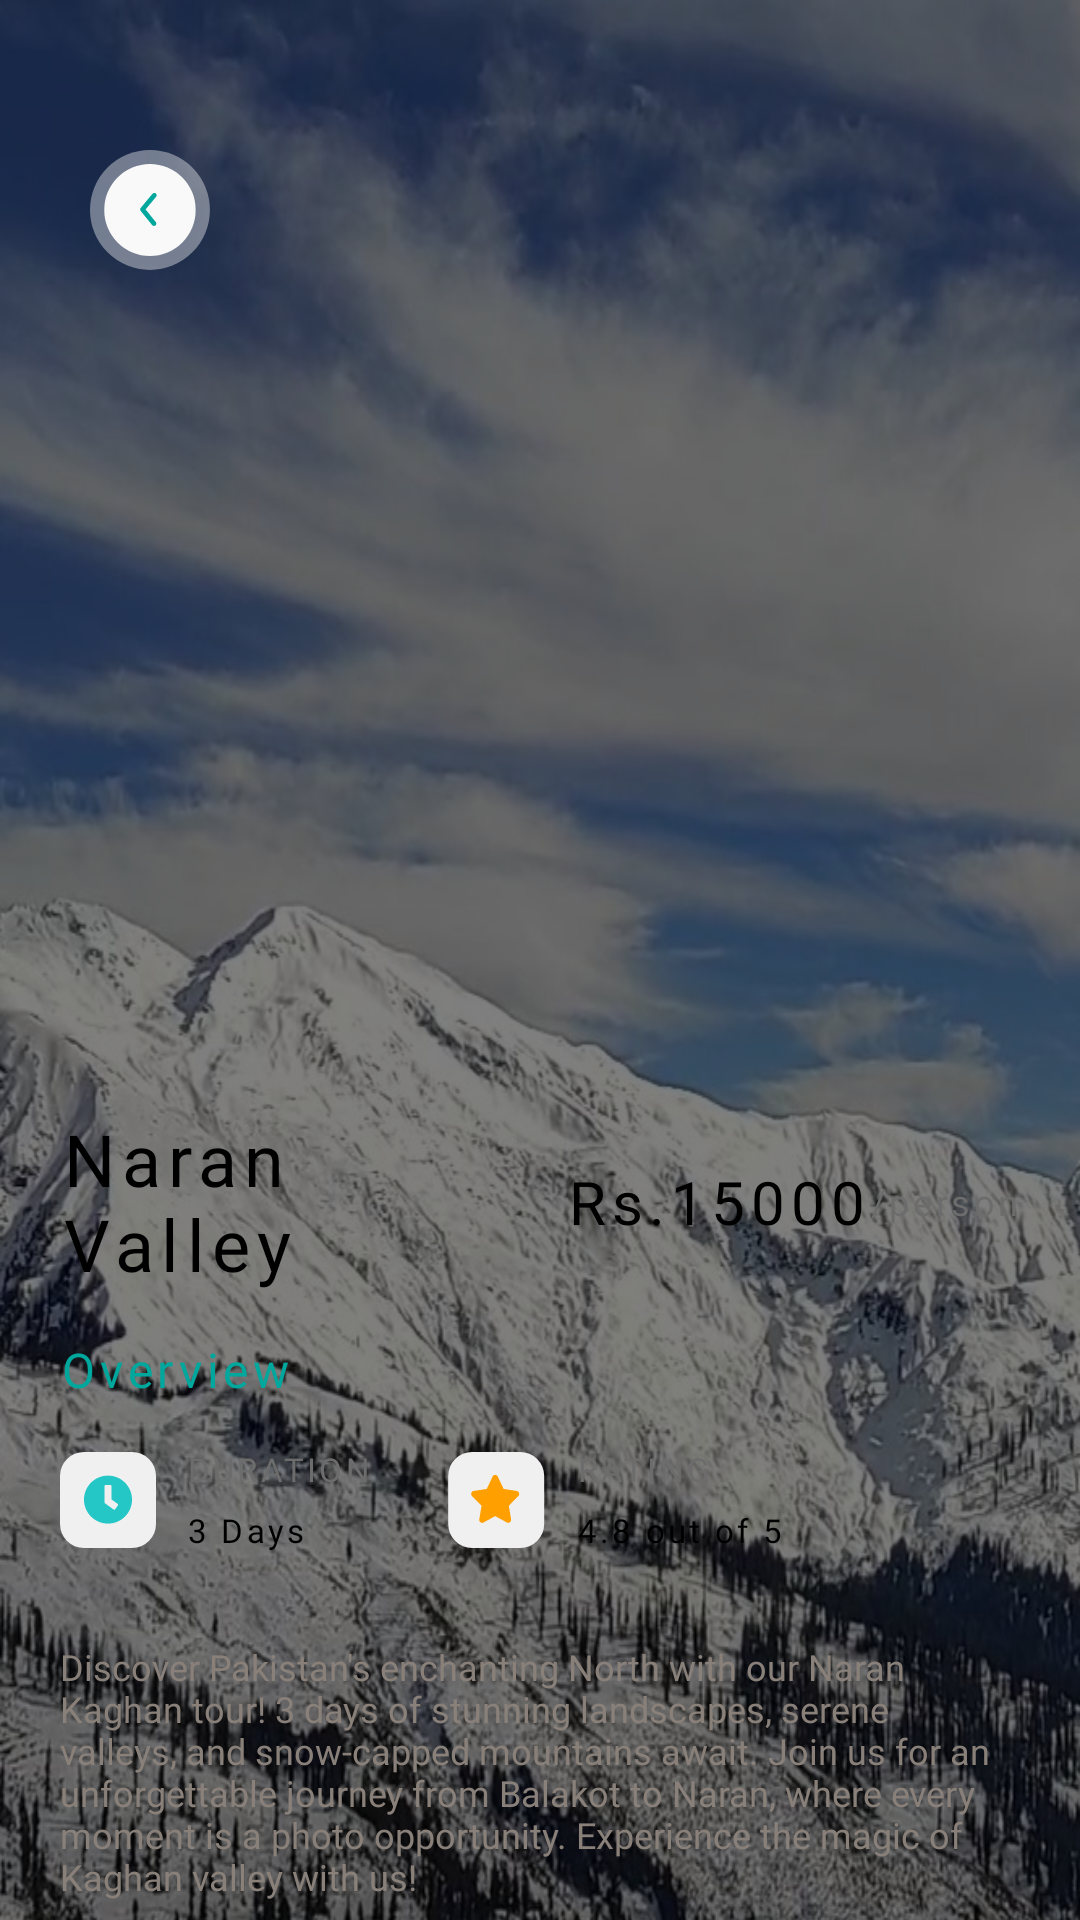

Point at icon controls on the screen. Image size 1080*1920, points as [x,y].
back: [150,210]
review: [496,1500]
